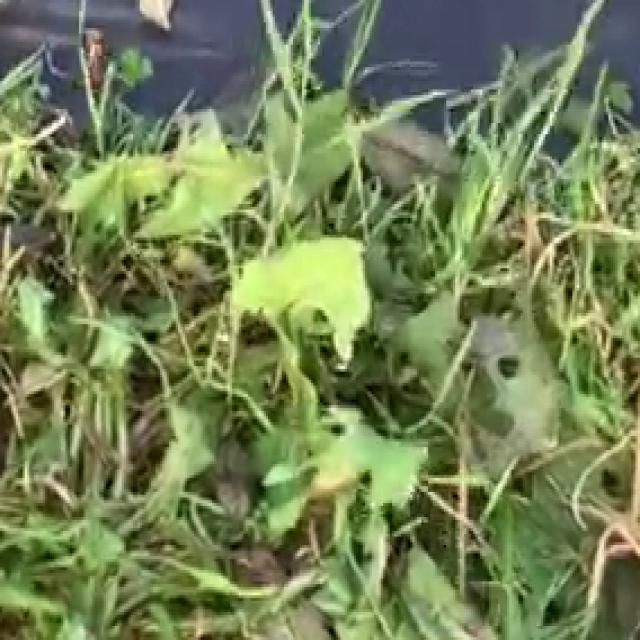organic waste: (90, 42, 527, 564)
